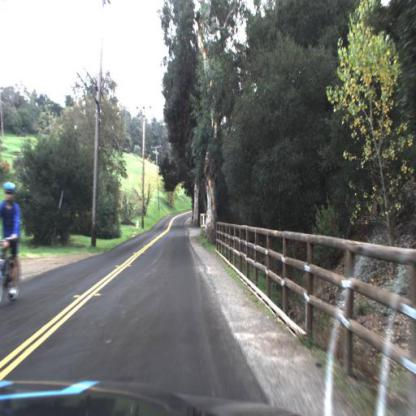biker: (1, 183, 21, 299)
